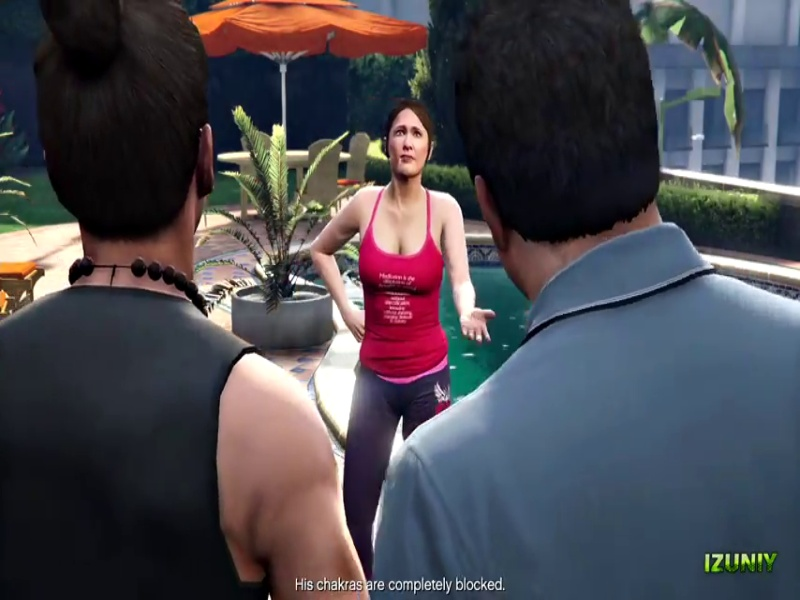human: (290, 106, 473, 570)
